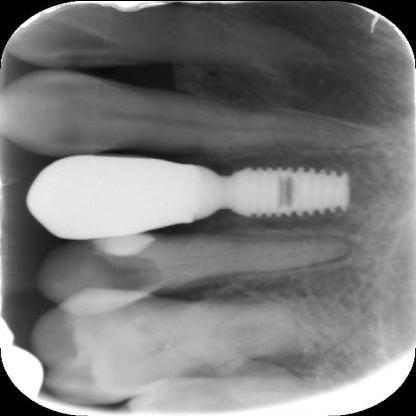Bicon: (174, 154, 364, 242)
